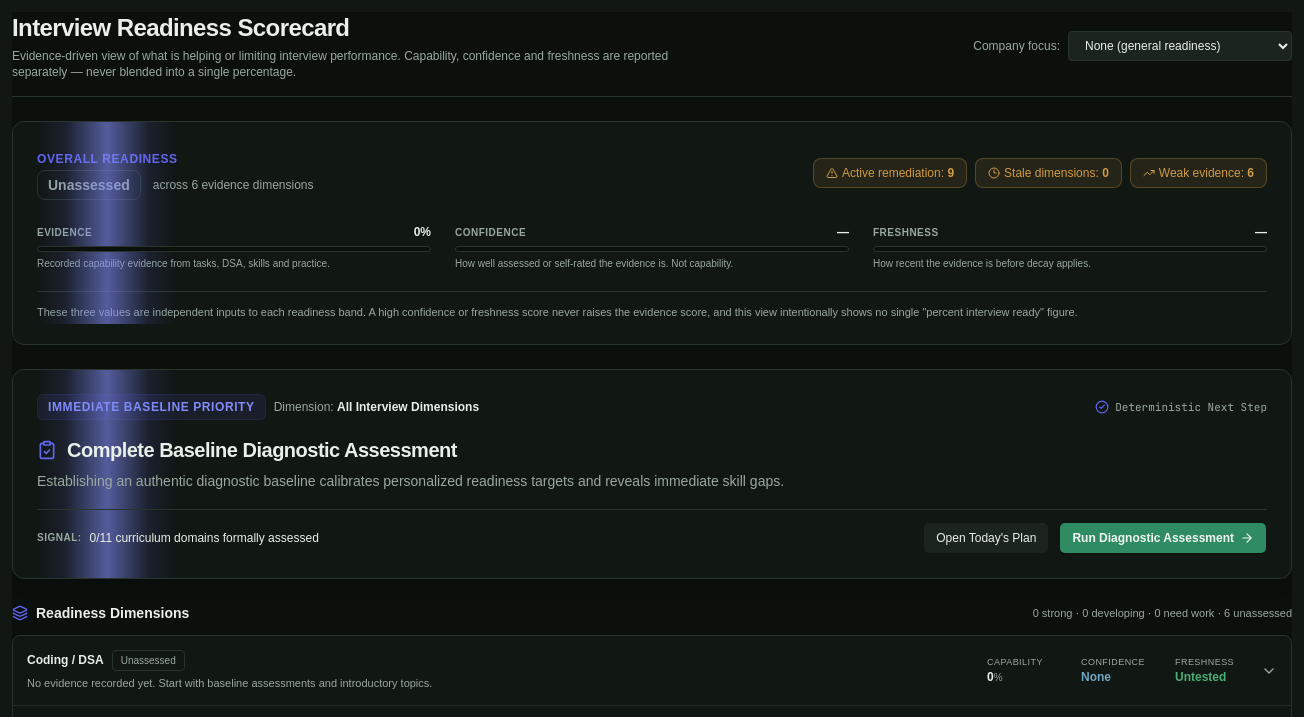
InterviewReadinessView › F — company overlay › F3. choosing a company does not change the general readiness summary
Select "Acme Corp — Software Engineer" in the dropdown with test id "interview-company-select". click: (1180, 46)
box: [1068, 31, 1292, 61]
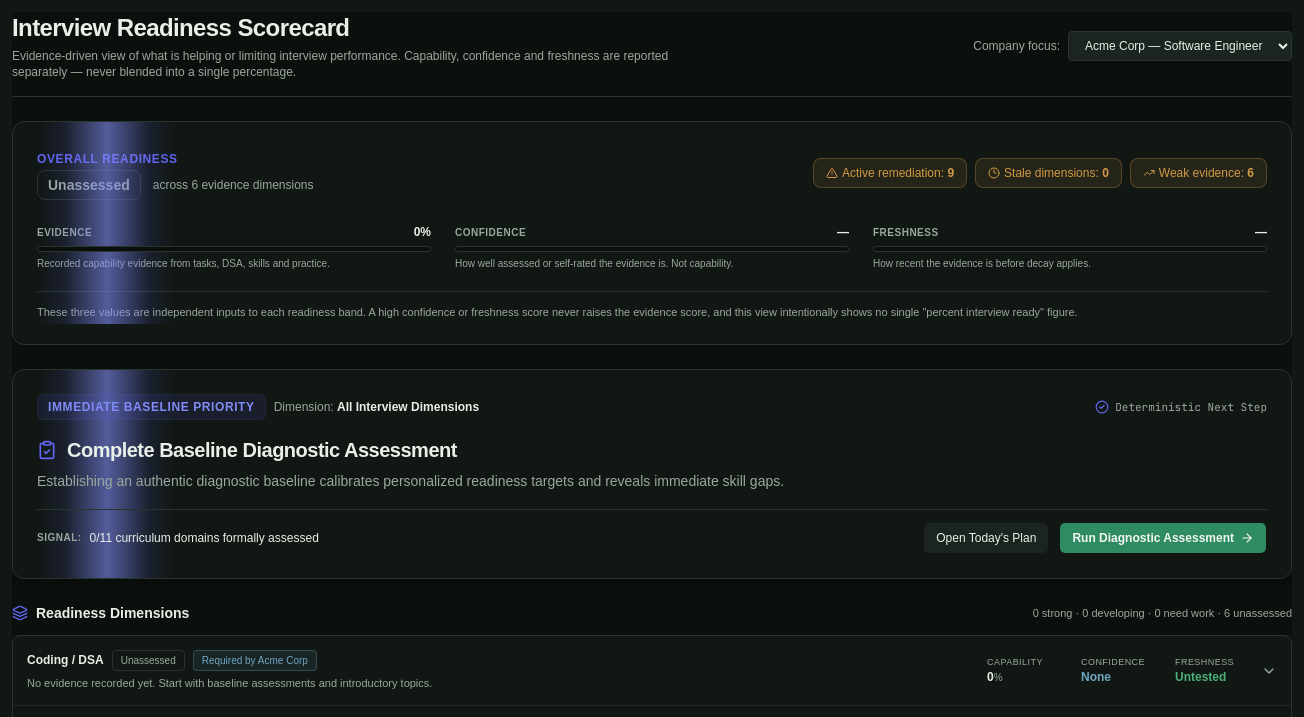
Expected: the text "Required by Acme Corp" is shown, [193, 650, 317, 671]
